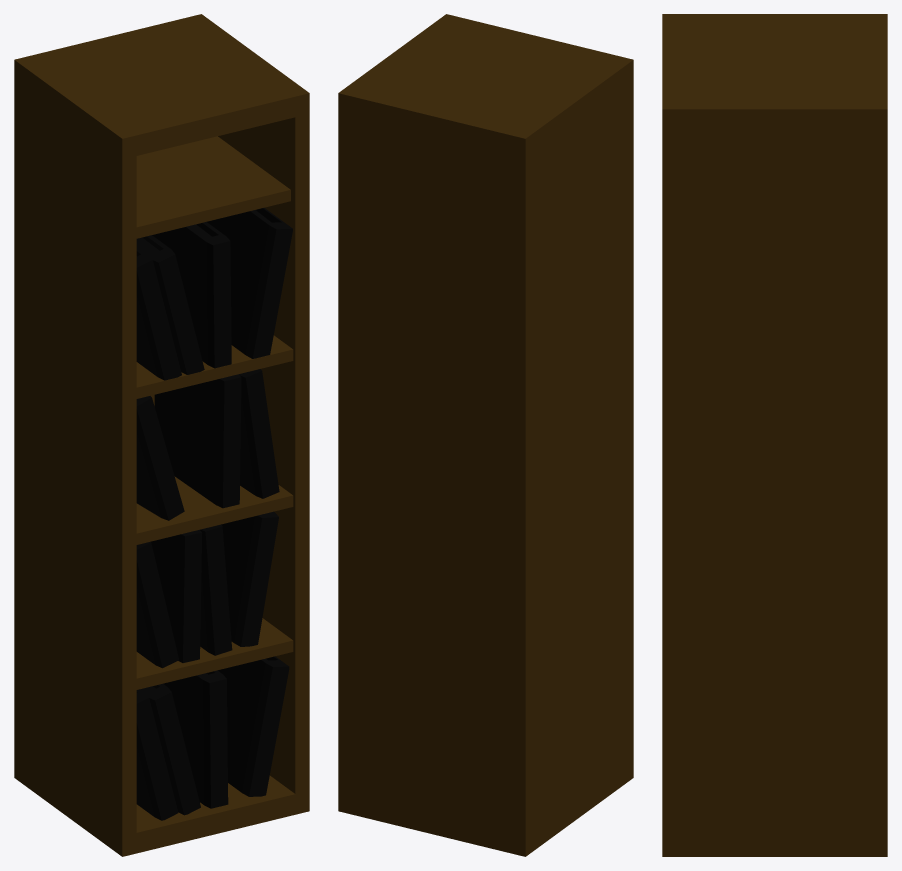
The model's file is Wardrobe.fbx.
3 renders of one model, left to right at view 1: azimuth 30°, elevation 25°; view 2: azimuth 150°, elevation 25°; view 3: azimuth 270°, elevation 25°, orthographic. The views are drawn at different scales.
Visible parts, largest first — view 1: Wardrobe; view 2: Wardrobe; view 3: Wardrobe.
Part boxes in pixels (x1,y1,x2,y2): Wardrobe: (14, 14, 309, 856); Wardrobe: (338, 14, 633, 856); Wardrobe: (662, 14, 887, 856).
Bounding box in the file's own units: 143 × 526 × 143.
